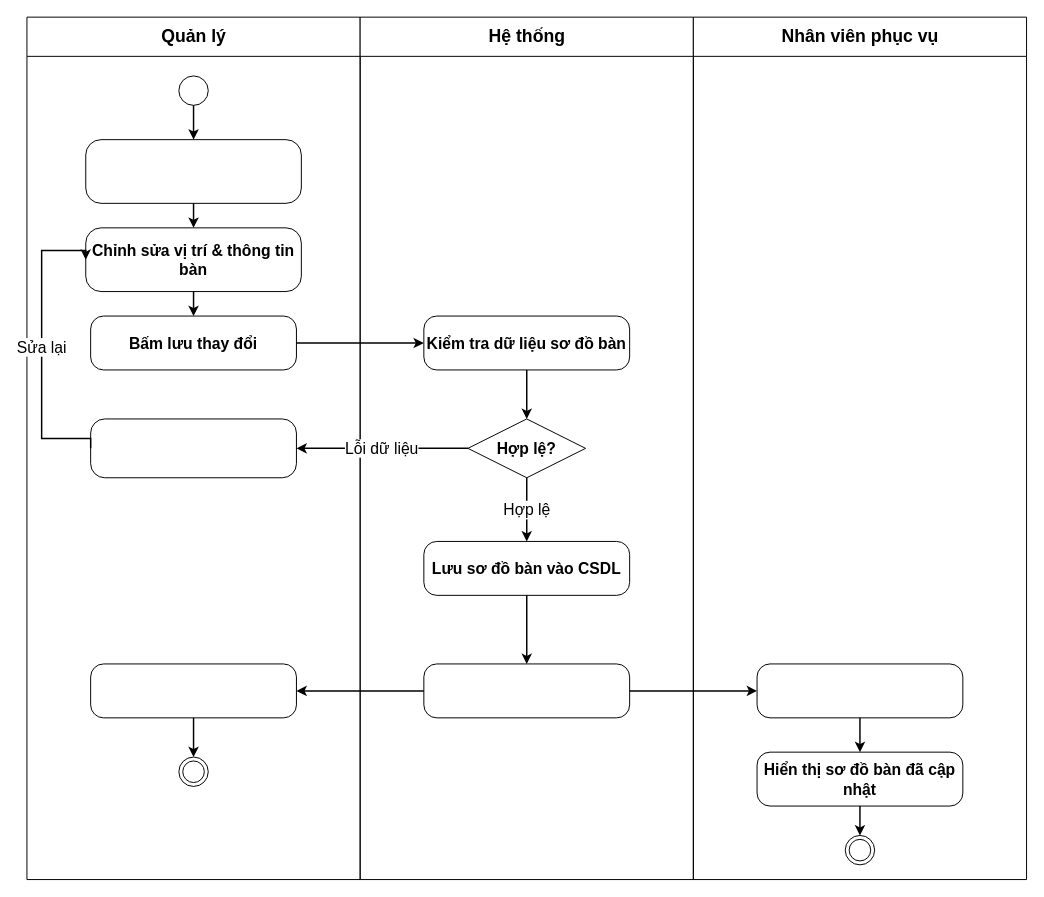
The diagram is 1044 pixels wide and 897 high, and some of its shapes have lost their labels. The shapes that lost their labels are listed below. From the top down, each one's centre as x and y in pixels, then its label:
(x=193, y=171): Mở chức năng cấu hình sơ đồ bàn
(x=193, y=448): Xem thông báo lỗi dữ liệu
(x=193, y=690): Nhận thông báo lưu thành công
(x=526, y=690): Cập nhật dữ liệu sơ đồ bàn
(x=859, y=690): Tải lại sơ đồ bàn mới
